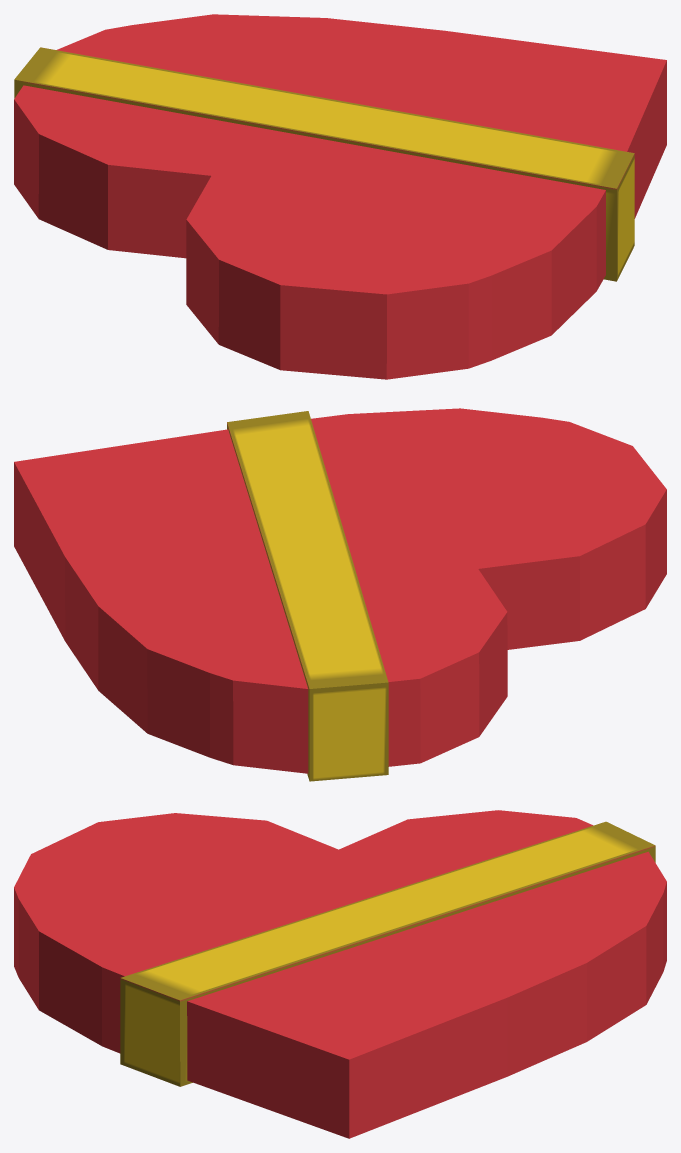
The model's file is ChocolateHeart.fbx.
The picture shows the model from 3 angles, top to bottom: view 1: azimuth 30°, elevation 25°; view 2: azimuth 150°, elevation 25°; view 3: azimuth 270°, elevation 25°; orthographic projection. The views are drawn at different scales.
Visible parts, largest first — view 1: HeartChocolate; view 2: HeartChocolate; view 3: HeartChocolate.
Boxes of the visible parts, x1=… form: HeartChocolate: x1=14, y1=14, x2=666, y2=379; HeartChocolate: x1=14, y1=408, x2=666, y2=781; HeartChocolate: x1=14, y1=810, x2=666, y2=1138.
Size of the model in its own units: 153 by 25.18 by 170.
1 material, 1 textured.
